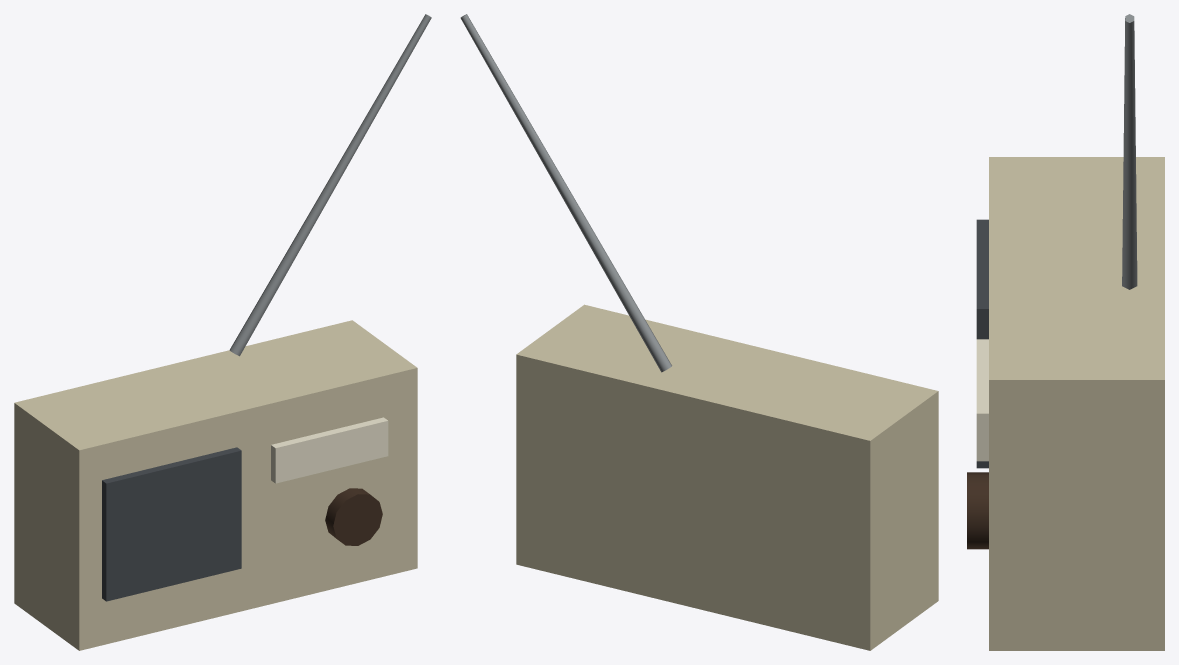
File: Radio.obj
3 renders of one model, left to right at view 1: azimuth 30°, elevation 25°; view 2: azimuth 150°, elevation 25°; view 3: azimuth 270°, elevation 25°, orthographic. The views are drawn at different scales.
Visible parts, largest first — view 1: Radio; view 2: Radio; view 3: Radio.
Boxes of the visible parts, x1,y1,x2,y2 form: Radio: [14, 14, 431, 650]; Radio: [460, 14, 938, 650]; Radio: [967, 14, 1164, 650].
Size of the model in its own units: 0.3585 by 0.4246 by 0.1125.
